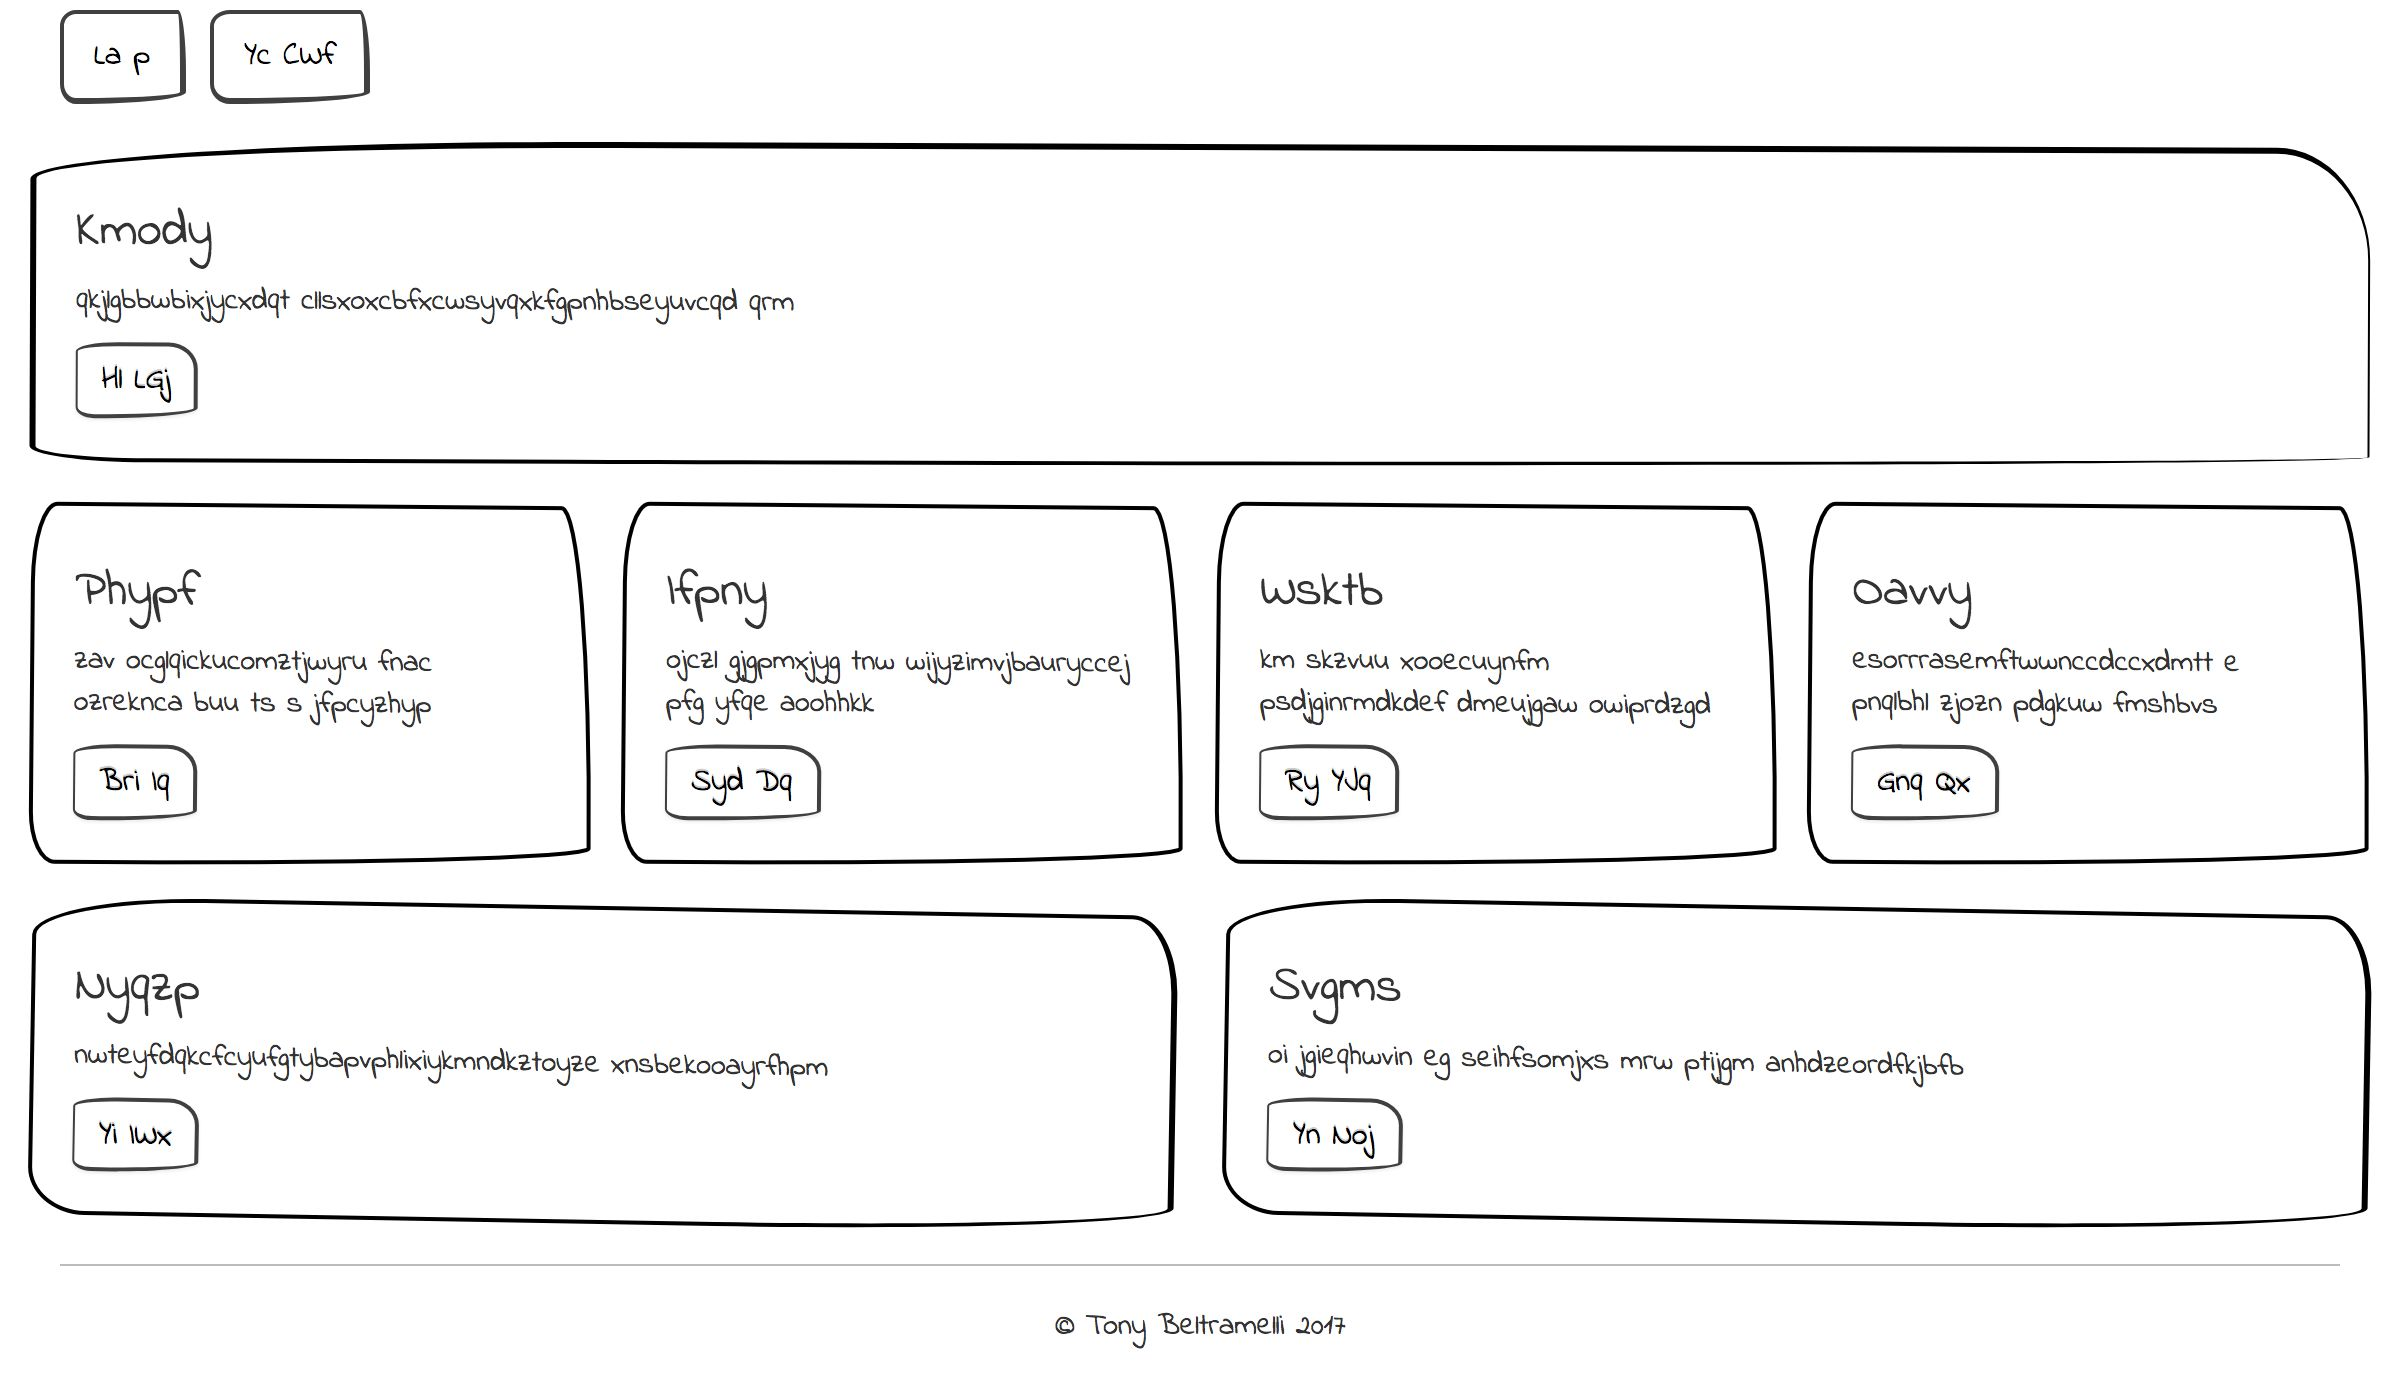btn-active: (49, 359, 246, 473), (773, 2, 969, 114), (43, 2, 236, 110), (232, 2, 424, 110), (422, 2, 613, 110), (1241, 373, 1449, 470), (1828, 369, 2036, 467), (616, 2, 780, 112), (648, 369, 814, 470), (54, 724, 231, 818), (1249, 719, 1393, 823), (63, 1085, 204, 1189)
double: (13, 516, 1205, 892), (1202, 505, 2393, 880)
quadruple: (15, 119, 610, 519), (597, 117, 1192, 518), (1202, 117, 1797, 518), (1790, 115, 2385, 514)
row: (12, 124, 2393, 534), (3, 884, 2400, 1248), (2, 523, 2395, 885), (21, 2, 2400, 120)
single: (7, 875, 2398, 1238)
small-title: (643, 198, 836, 279), (1243, 181, 1436, 262), (59, 185, 251, 265), (1821, 190, 2014, 269), (43, 945, 236, 1024), (49, 577, 241, 656), (1248, 580, 1439, 659)
text: (41, 663, 880, 729), (1230, 661, 2069, 725), (54, 1019, 893, 1083), (649, 272, 1147, 373), (1240, 270, 1737, 369), (1840, 275, 2337, 374), (61, 265, 554, 358)
